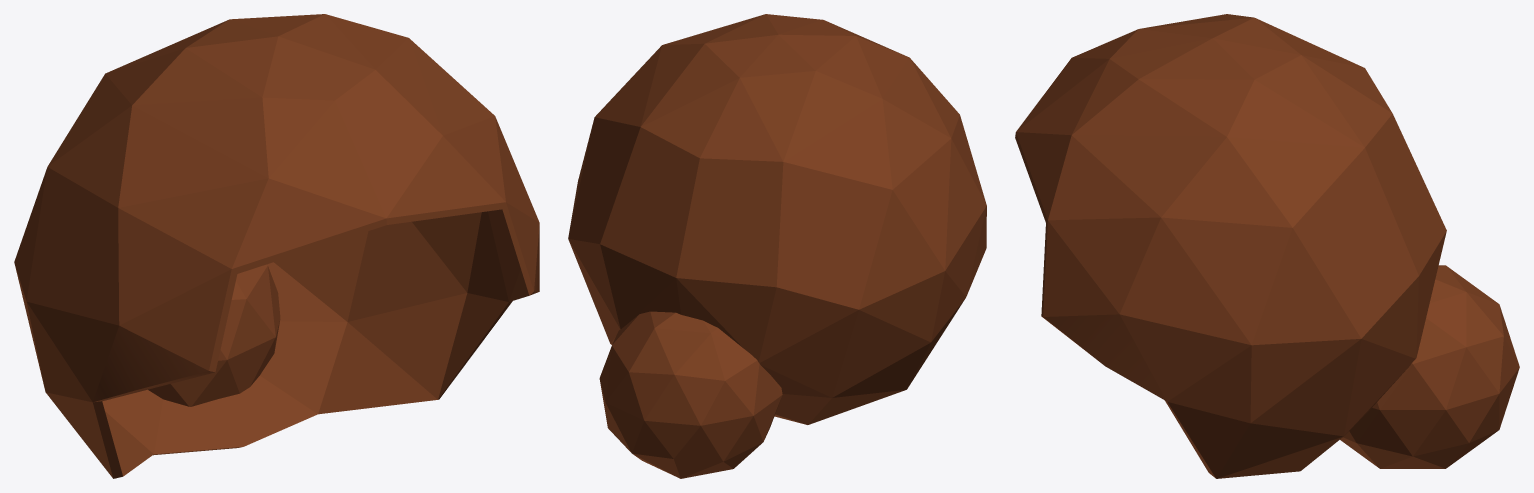
File: HairCut7.fbx
The picture shows the model from 3 angles, left to right: view 1: azimuth 30°, elevation 25°; view 2: azimuth 150°, elevation 25°; view 3: azimuth 270°, elevation 25°; orthographic projection. The views are drawn at different scales.
Parts seen in each view (by area): view 1: characterBase.002; view 2: characterBase.002; view 3: characterBase.002.
Part boxes in pixels (x1,y1,x2,y2): characterBase.002: (14, 14, 539, 478); characterBase.002: (568, 14, 986, 478); characterBase.002: (1015, 14, 1519, 478).
Size of the model in its own units: 62.99 by 61.04 by 65.57.
